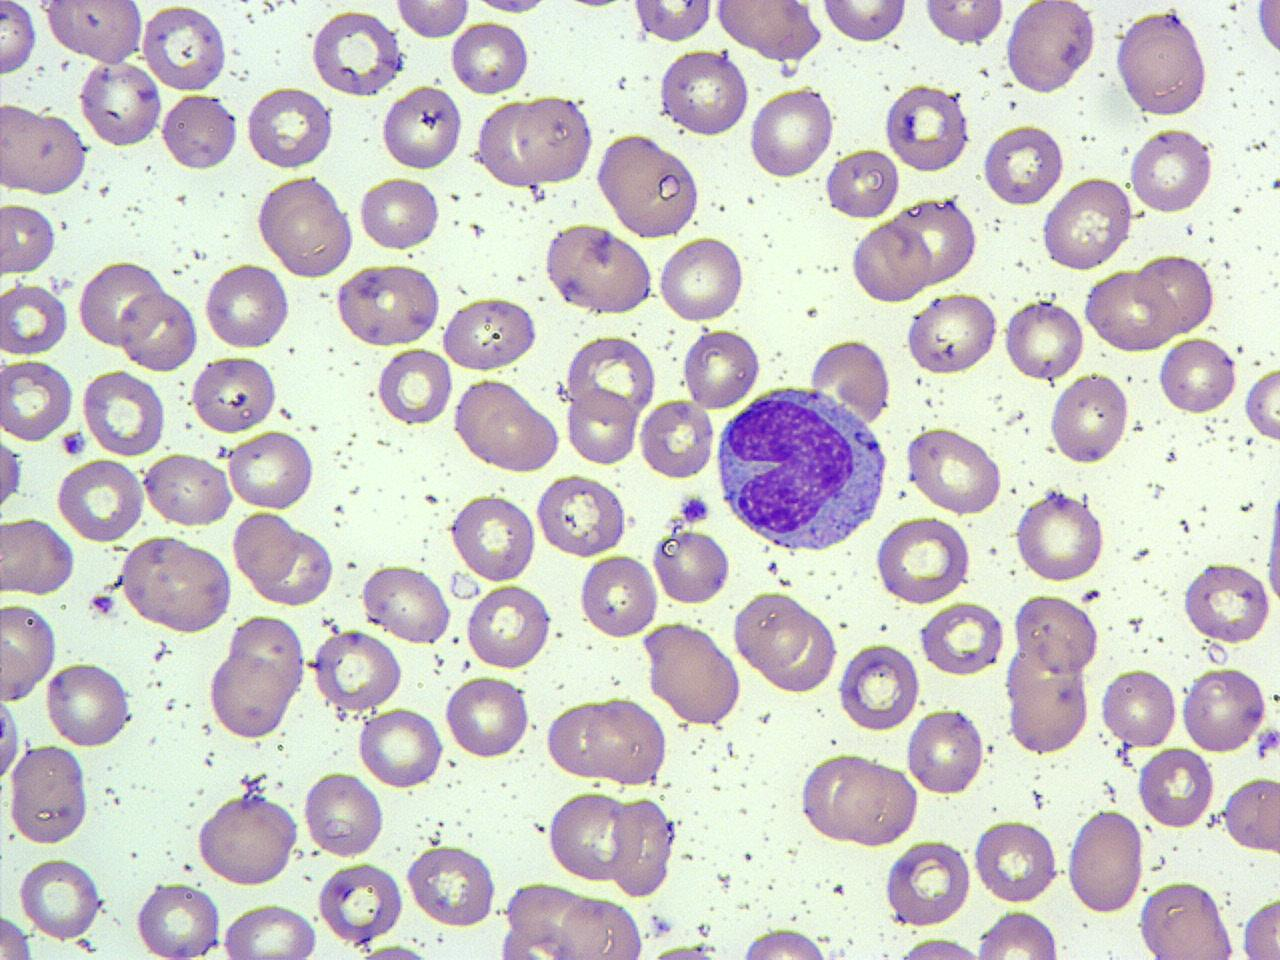Platelets: (678, 492, 711, 524), (59, 428, 88, 458)
RBC: (116, 534, 235, 635), (594, 132, 702, 241), (1111, 6, 1209, 119), (640, 621, 744, 728), (450, 376, 562, 474), (542, 223, 657, 318), (193, 793, 300, 887), (334, 260, 443, 348), (1038, 175, 1134, 275), (904, 424, 1006, 517), (260, 179, 356, 278), (873, 514, 975, 606), (1004, 1, 1098, 97), (1013, 488, 1107, 584), (5, 742, 90, 848), (310, 6, 406, 99), (565, 330, 660, 422), (656, 46, 751, 138), (881, 80, 971, 175), (545, 790, 635, 885), (1064, 808, 1144, 916), (748, 83, 836, 181), (404, 840, 499, 930), (882, 836, 974, 928), (905, 290, 1001, 378), (1177, 664, 1269, 754), (1004, 662, 1092, 756), (1047, 370, 1131, 469), (656, 233, 747, 324), (831, 759, 921, 851), (224, 426, 316, 514), (0, 102, 88, 196), (533, 471, 627, 559), (78, 255, 164, 350), (892, 193, 978, 288), (464, 582, 554, 672), (202, 260, 290, 352), (54, 454, 147, 542), (1135, 878, 1237, 958), (80, 366, 167, 458), (44, 658, 132, 750), (449, 492, 536, 584), (584, 694, 669, 788), (1083, 268, 1179, 352), (244, 84, 335, 171), (1129, 124, 1215, 216), (836, 640, 921, 733), (141, 2, 227, 95), (798, 749, 883, 843), (226, 612, 308, 708), (359, 563, 454, 645), (1181, 560, 1273, 644), (379, 82, 464, 173), (17, 855, 106, 942), (440, 293, 538, 372), (1012, 590, 1102, 676), (311, 627, 403, 711), (444, 674, 530, 762), (577, 550, 659, 641), (973, 818, 1060, 904), (356, 706, 445, 790), (79, 61, 162, 150), (302, 770, 386, 860), (314, 860, 405, 943), (980, 120, 1065, 207), (1001, 296, 1085, 384), (608, 795, 678, 899), (133, 878, 223, 960), (904, 706, 984, 798), (514, 94, 594, 186), (542, 695, 626, 782), (208, 652, 290, 740), (1133, 251, 1217, 337), (650, 520, 732, 608), (680, 325, 762, 412), (143, 450, 234, 528), (808, 335, 890, 422), (712, 0, 826, 62), (849, 220, 931, 305), (357, 172, 442, 254), (732, 588, 812, 675), (918, 599, 1006, 679), (1136, 742, 1215, 830), (761, 606, 840, 695), (189, 354, 278, 433), (252, 525, 336, 608), (1100, 665, 1178, 750), (0, 354, 75, 444), (118, 288, 198, 372), (160, 90, 240, 173), (638, 395, 715, 482), (42, 1, 146, 65), (476, 96, 546, 189), (447, 19, 530, 97), (1158, 335, 1236, 417), (375, 346, 452, 428), (564, 385, 640, 468), (0, 514, 77, 595), (0, 600, 59, 704), (824, 144, 900, 222), (219, 902, 318, 960), (556, 895, 646, 959), (0, 280, 71, 356), (232, 509, 300, 586), (1224, 770, 1278, 857), (972, 908, 1061, 959), (1, 200, 58, 276), (818, 0, 910, 46), (922, 0, 1007, 47), (631, 0, 713, 44), (738, 926, 833, 960), (393, 0, 472, 40), (0, 0, 38, 80), (1243, 362, 1279, 445), (1239, 896, 1279, 958), (889, 936, 989, 960), (0, 689, 20, 788), (0, 910, 35, 958), (1254, 0, 1280, 62)
WBC: (711, 382, 895, 557)
